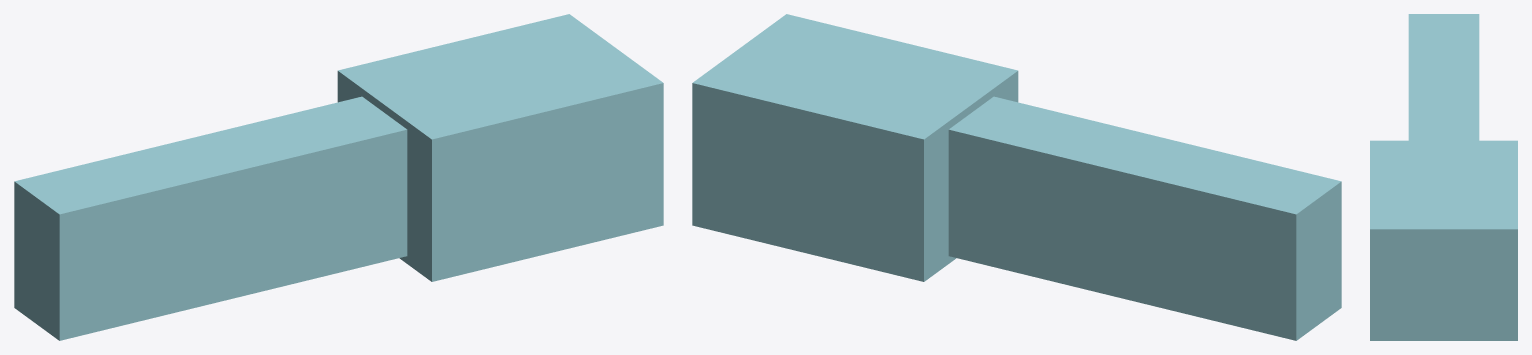
File: cuboid_brush_v8015.obj
The picture shows the model from 3 angles, left to right: view 1: azimuth 30°, elevation 25°; view 2: azimuth 150°, elevation 25°; view 3: azimuth 270°, elevation 25°; orthographic projection. The views are drawn at different scales.
Size of the model in its own units: 0.1629 by 0.0383 by 0.0459.
Materials: 1 (1 with a texture image).
